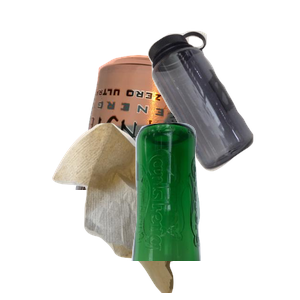glass: (129, 120, 300, 300)
metal: (73, 52, 263, 232)
plastic: (145, 28, 300, 192)
trash: (50, 120, 219, 300)
